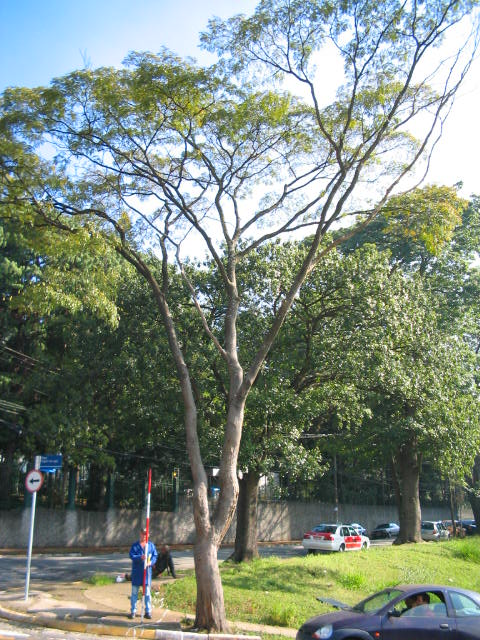crown: (5, 4, 478, 345)
stem: (178, 527, 243, 630), (234, 476, 270, 555), (386, 493, 428, 541)
stick: (136, 468, 161, 618)
tree: (4, 2, 478, 632)
